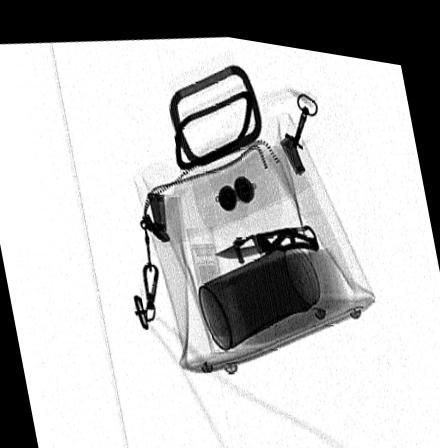Knife: (212, 213, 319, 250)
